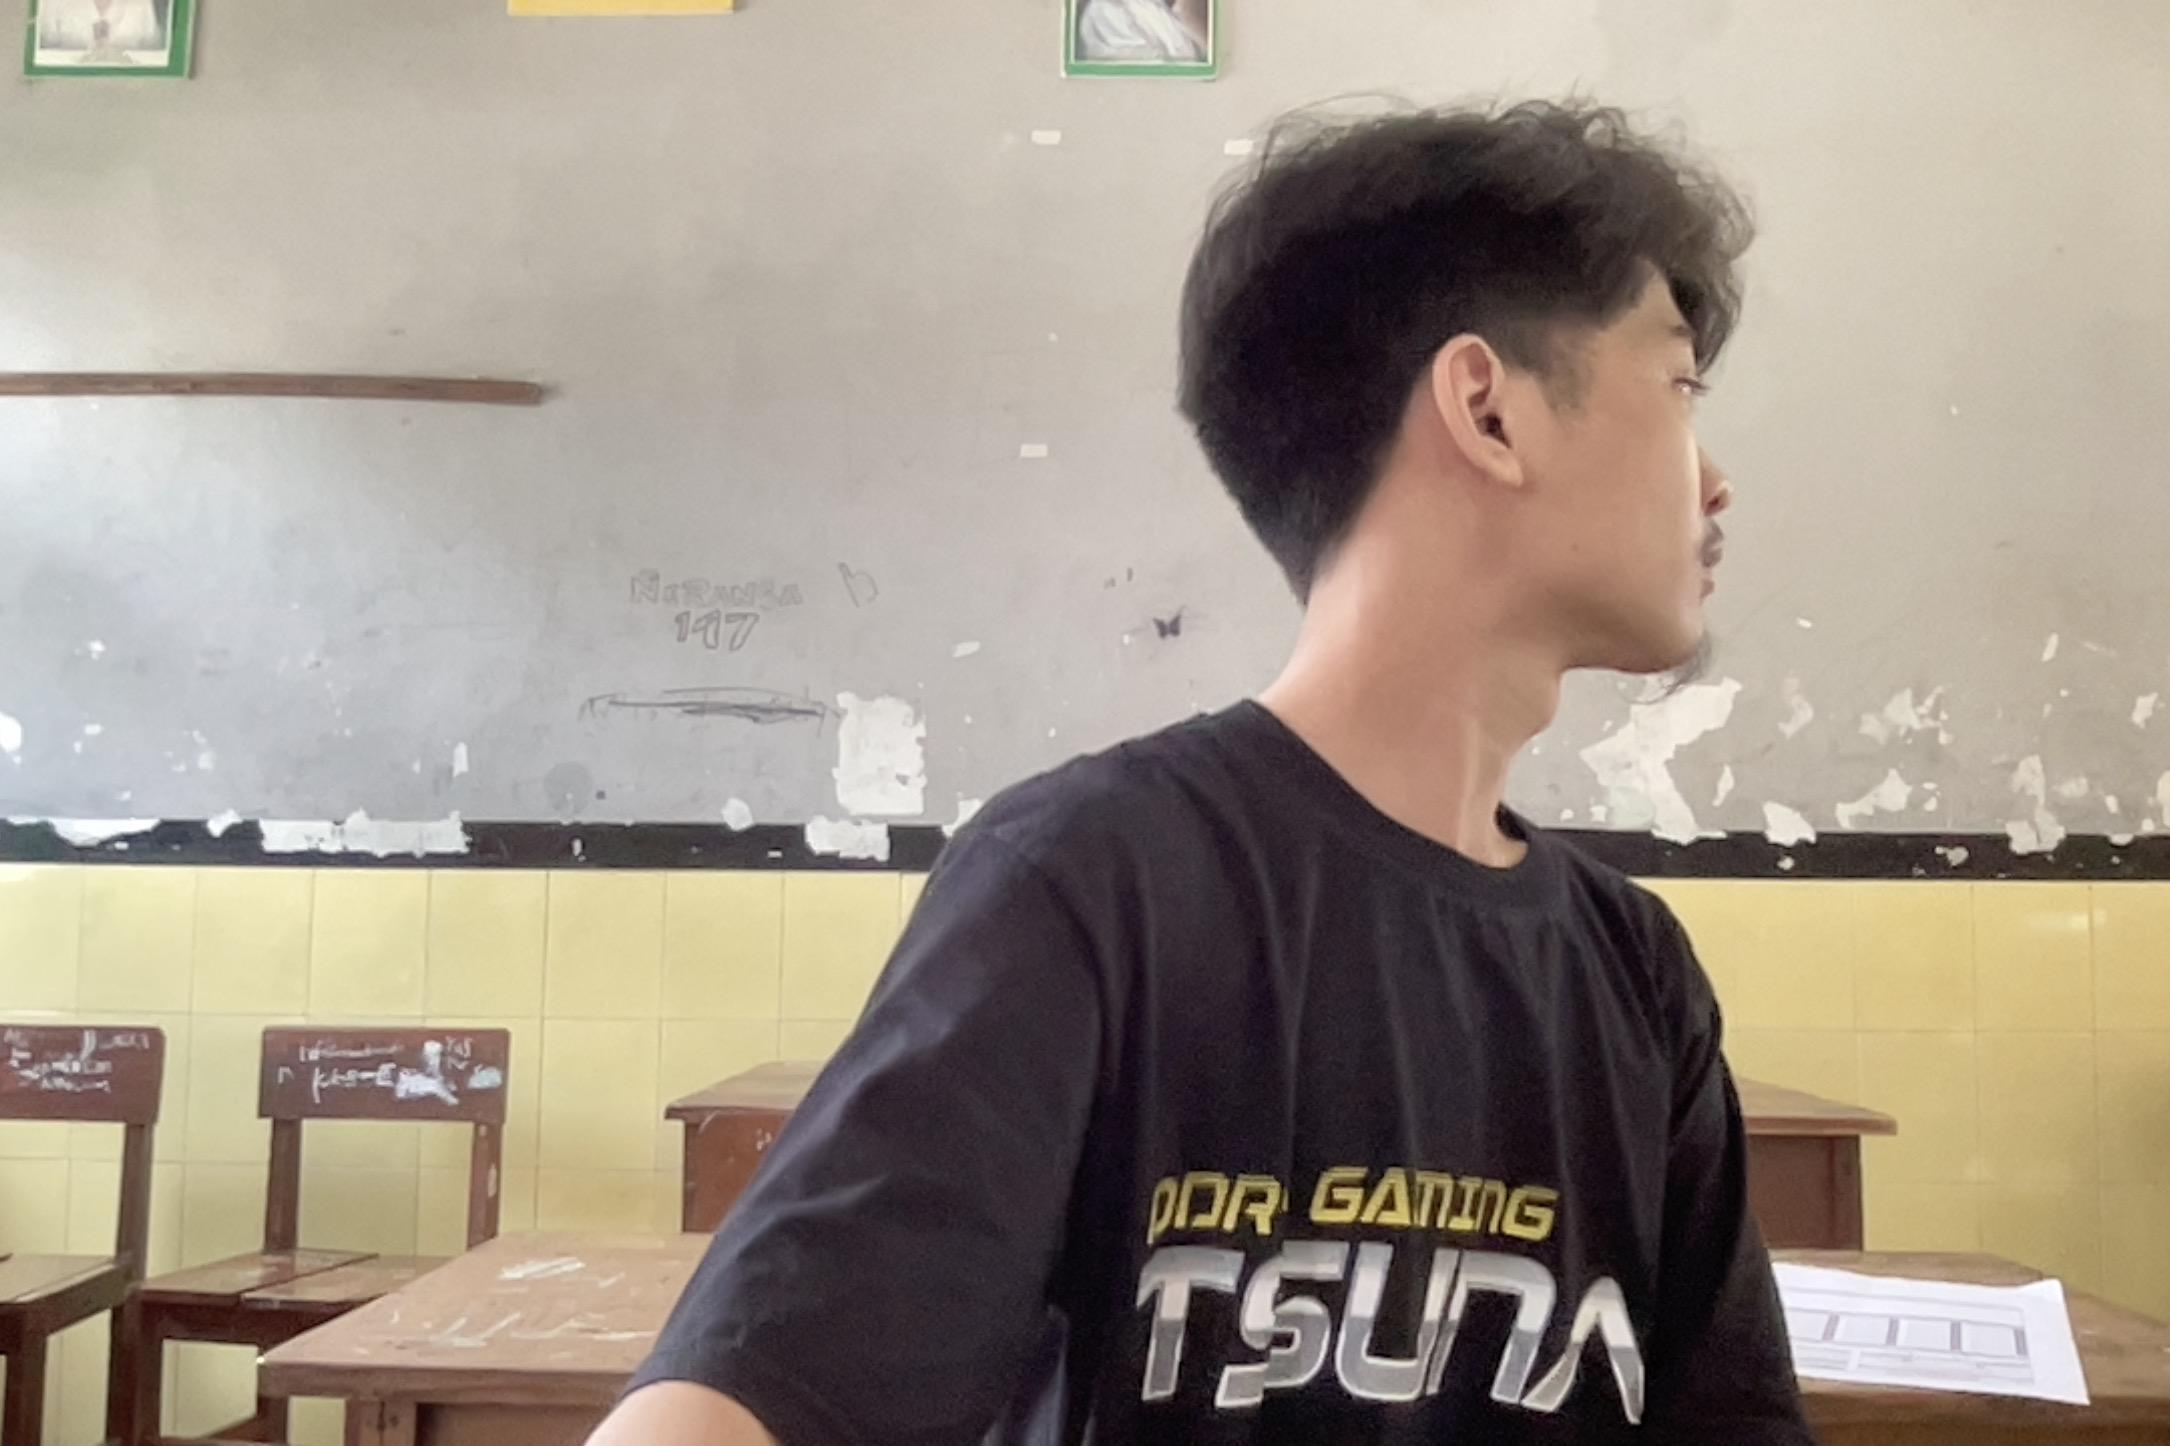cheating: (531, 68, 1831, 1446)
